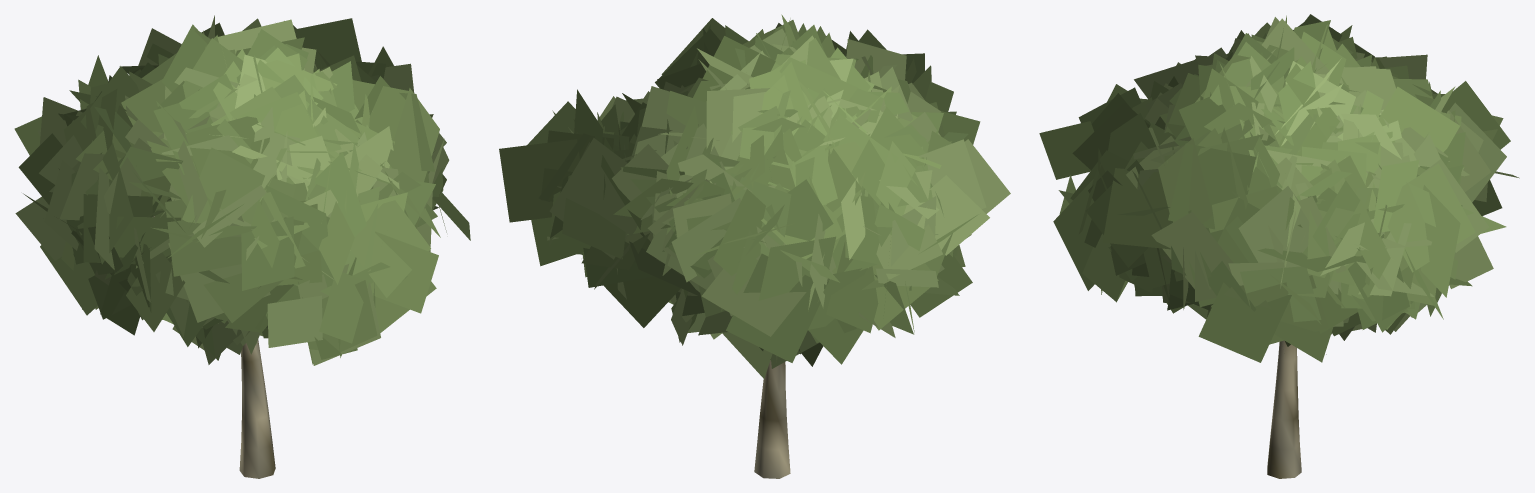
3 views of the same model, side by side, from view 1: azimuth 30°, elevation 25°; view 2: azimuth 150°, elevation 25°; view 3: azimuth 270°, elevation 25° (orthographic). The views are drawn at different scales.
Parts seen in each view (by area): view 1: plane_0; view 2: plane_0; view 3: plane_0.
Part boxes in pixels (bbox=[...]): plane_0: bbox=[14, 15, 470, 478]; plane_0: bbox=[499, 14, 1010, 478]; plane_0: bbox=[1039, 14, 1519, 478].
Size of the model in its own units: 0.9786 by 1 by 1.
